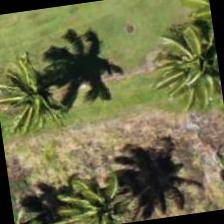Kelapa_Sawit: (0, 42, 82, 143), (157, 13, 223, 111), (49, 163, 148, 223)
